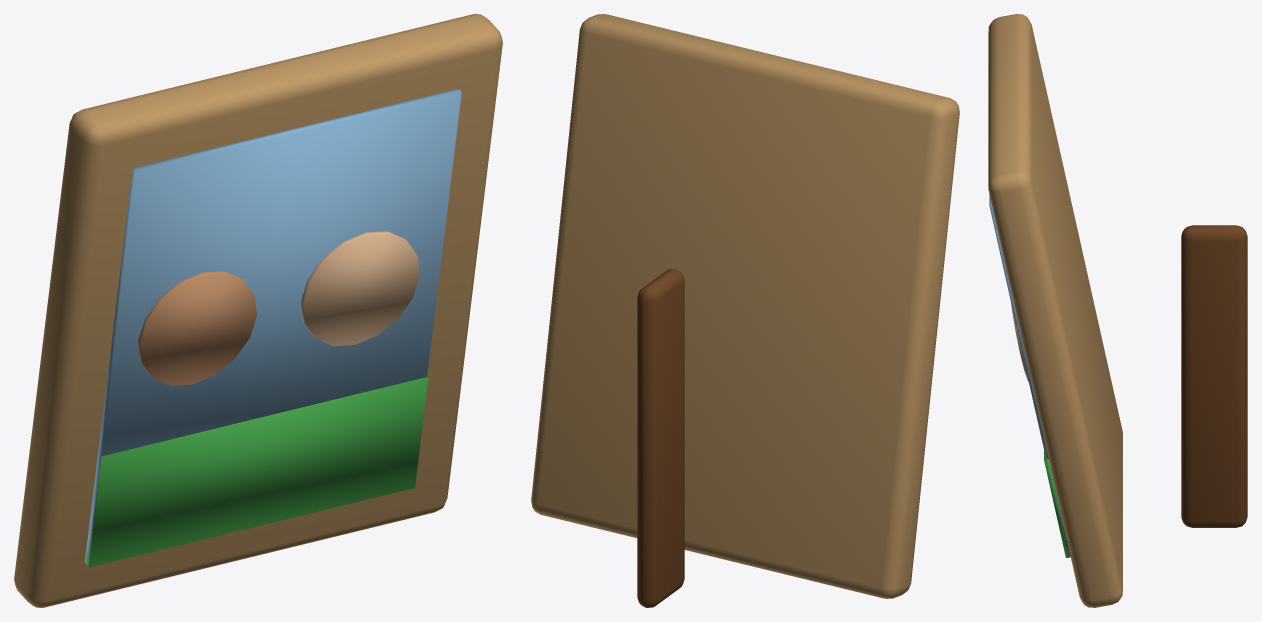
Rendered from photo_frame.glb.
3 views of the same model, side by side, from view 1: azimuth 30°, elevation 25°; view 2: azimuth 150°, elevation 25°; view 3: azimuth 270°, elevation 25° (orthographic). The views are drawn at different scales.
Visible parts, largest first — view 1: photo_frame; view 2: photo_frame; view 3: photo_frame.
Part boxes in pixels (box(x1,y1,x2,y2)): photo_frame: box(14, 14, 502, 607); photo_frame: box(531, 14, 959, 607); photo_frame: box(988, 14, 1247, 607).
Size of the model in its own units: 0.18 by 0.2172 by 0.1173.
